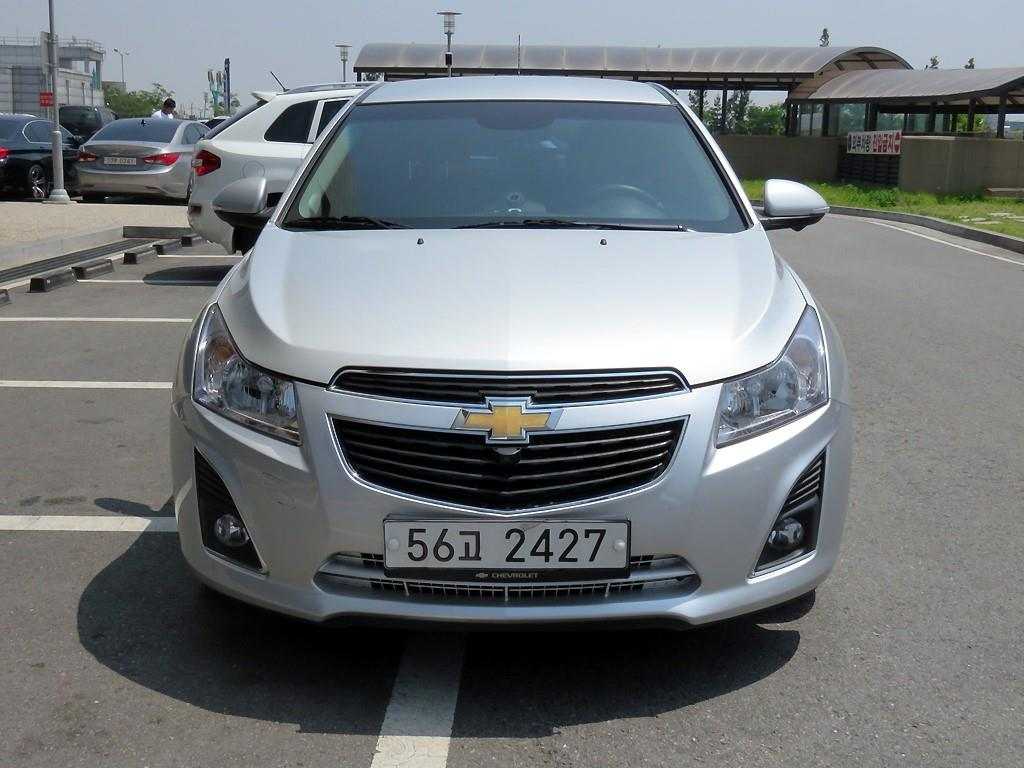plate: (384, 521, 627, 568)
